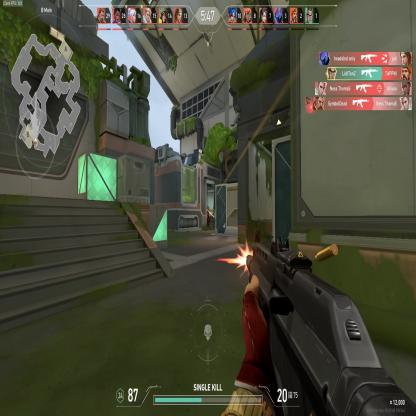enemy: (206, 206, 210, 227)
